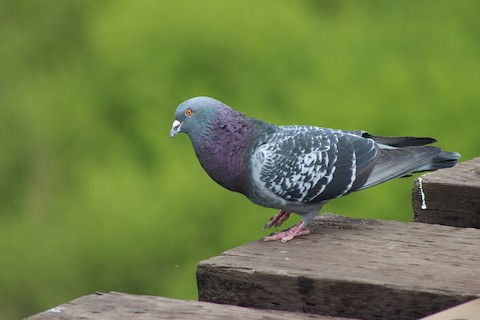pigeon: (167, 94, 464, 246)
